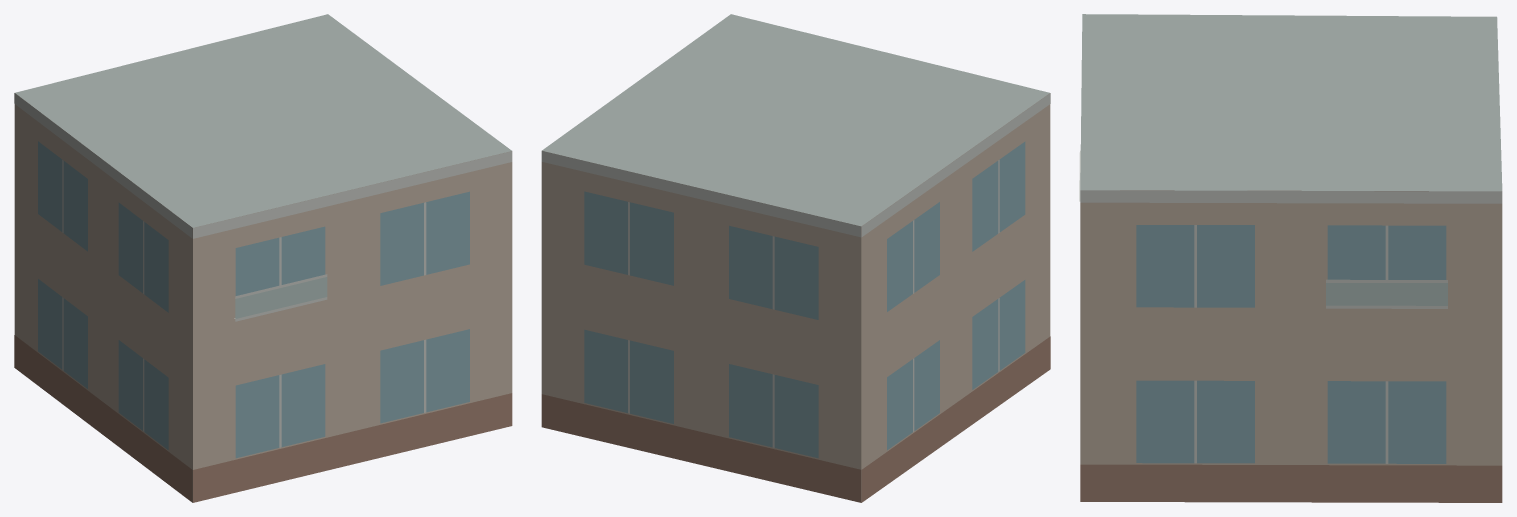
File: survey-upis-32989026.glb
3 views of the same model, side by side, from view 1: azimuth 30°, elevation 25°; view 2: azimuth 150°, elevation 25°; view 3: azimuth 270°, elevation 25° (orthographic). The views are drawn at different scales.
Parts seen in each view (by area): view 1: survey-upis-32989026.tmp; view 2: survey-upis-32989026.tmp; view 3: survey-upis-32989026.tmp.
Part boxes in pixels (left/top/right/bottom): survey-upis-32989026.tmp: left=14, top=14, right=512, bottom=502; survey-upis-32989026.tmp: left=541, top=14, right=1050, bottom=502; survey-upis-32989026.tmp: left=1079, top=14, right=1502, bottom=502.
Bounding box in the file's own units: 7.48 × 6.1 × 7.52.
